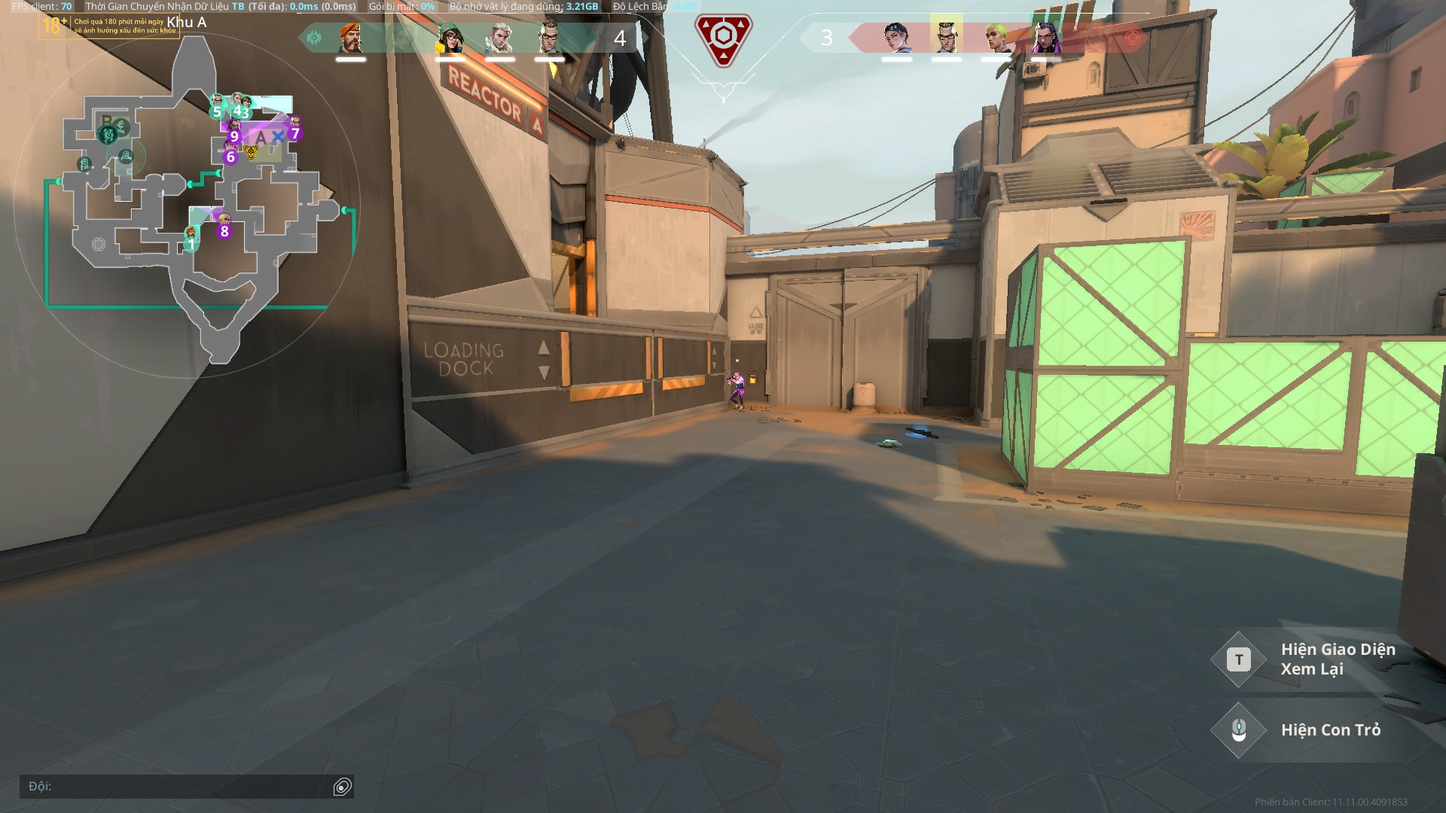body: (733, 375, 745, 388)
head: (734, 370, 739, 376)
